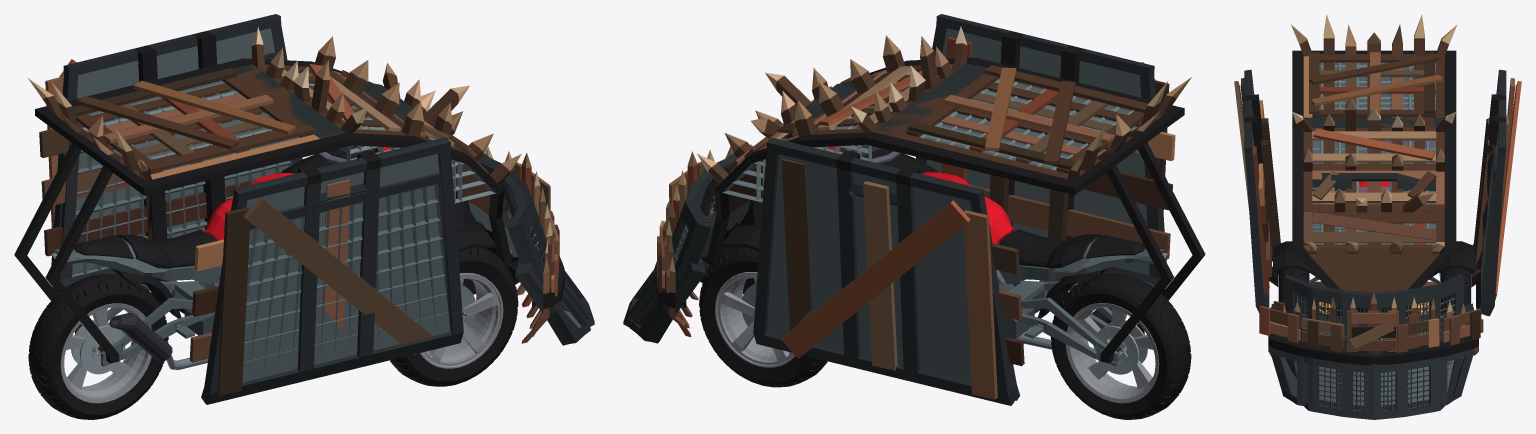
Rendered from Moto_02.fbx.
3 renders of one model, left to right at view 1: azimuth 30°, elevation 25°; view 2: azimuth 150°, elevation 25°; view 3: azimuth 270°, elevation 25°, orthographic. The views are drawn at different scales.
Visible parts, largest first — view 1: Side_Right.002, Boards, Frame.001, Side_Right, Frame, Side_Left.002, Side_Right.001, Sport_Tire.001, Side_Left.001, Side_Left, Sport_Tire.002, Front_Bumper_Solid_Grid (+8 smaller); view 2: Side_Left.002, Boards, Side_Left, Frame.001, Side_Right.002, Frame, Sport_Tire.001, Side_Right, Sport_Tire.003, Front_Bumper_Solid_Grid, Disk.003, Front_Bumper_Boards (+6 smaller); view 3: Boards, Front_Bumper_Solid_Grid, Front_Bumper_Boards, Frame.001, Front_Bumper_Solid_metal, Side_Right, Side_Right.002, Side_Left.002, Side_Left, Side_Left.001, Frame, Frame.002 (+2 smaller).
Part boxes in pixels (x1,y1,x2,y2): Side_Right.002: [201, 137, 463, 404]; Boards: [28, 27, 521, 214]; Frame.001: [14, 58, 512, 363]; Side_Right: [189, 179, 432, 395]; Frame: [54, 149, 508, 366]; Side_Left.002: [51, 14, 288, 293]; Side_Right.001: [201, 172, 450, 402]; Sport_Tire.001: [28, 274, 168, 419]; Side_Left.001: [58, 51, 302, 313]; Side_Left: [39, 59, 255, 293]; Sport_Tire.002: [390, 247, 518, 386]; Front_Bumper_Solid_Grid: [396, 147, 594, 326]; Side_Left.002: [753, 137, 1016, 405]; Boards: [697, 26, 1191, 214]; Side_Left: [781, 158, 1024, 399]; Frame.001: [706, 57, 1205, 363]; Side_Right.002: [916, 14, 1166, 313]; Frame: [710, 148, 1165, 366]; Sport_Tire.001: [1050, 273, 1191, 419]; Side_Right: [941, 37, 1175, 312]; Sport_Tire.003: [699, 247, 827, 387]; Front_Bumper_Solid_Grid: [623, 146, 822, 327]; Disk.003: [1065, 303, 1159, 403]; Front_Bumper_Boards: [654, 144, 752, 336]; Boards: [1291, 14, 1457, 292]; Front_Bumper_Solid_Grid: [1285, 274, 1463, 419]; Front_Bumper_Boards: [1259, 293, 1483, 365]; Frame.001: [1292, 50, 1456, 316]; Front_Bumper_Solid_metal: [1270, 303, 1473, 409]; Side_Right: [1234, 78, 1324, 295]; Side_Right.002: [1244, 69, 1278, 312]; Side_Left.002: [1471, 69, 1506, 316]; Side_Left: [1423, 78, 1521, 300]; Side_Left.001: [1471, 94, 1496, 314]; Frame: [1273, 181, 1475, 316]; Frame.002: [1312, 62, 1435, 244].
Bounding box in the file's own units: 234 × 130 × 143.
